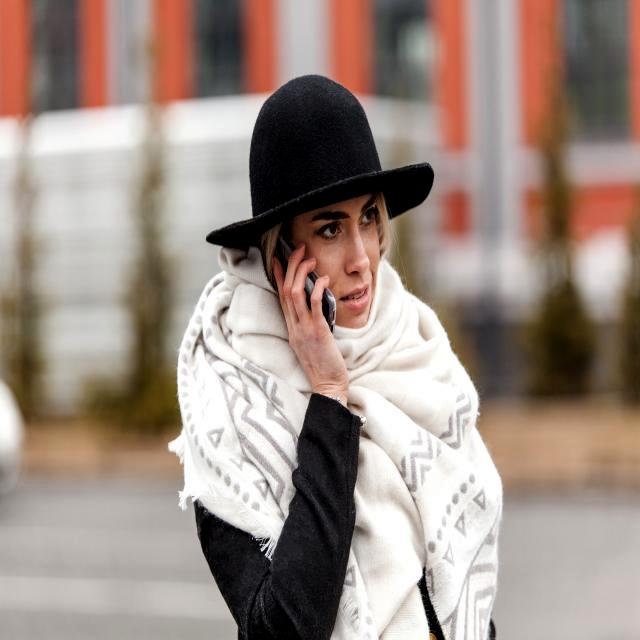no_hard_hat: (206, 75, 434, 250)
person: (176, 76, 502, 640)
